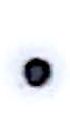cancer: (4, 41, 69, 105)
